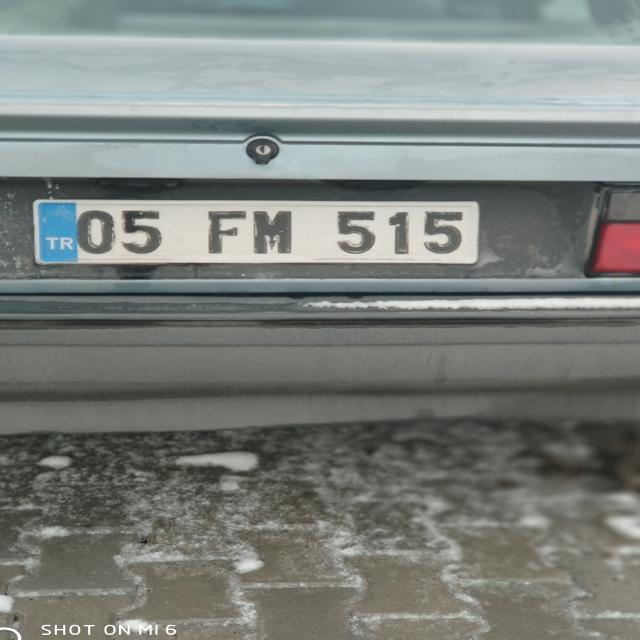license_plate: (32, 200, 480, 263)
